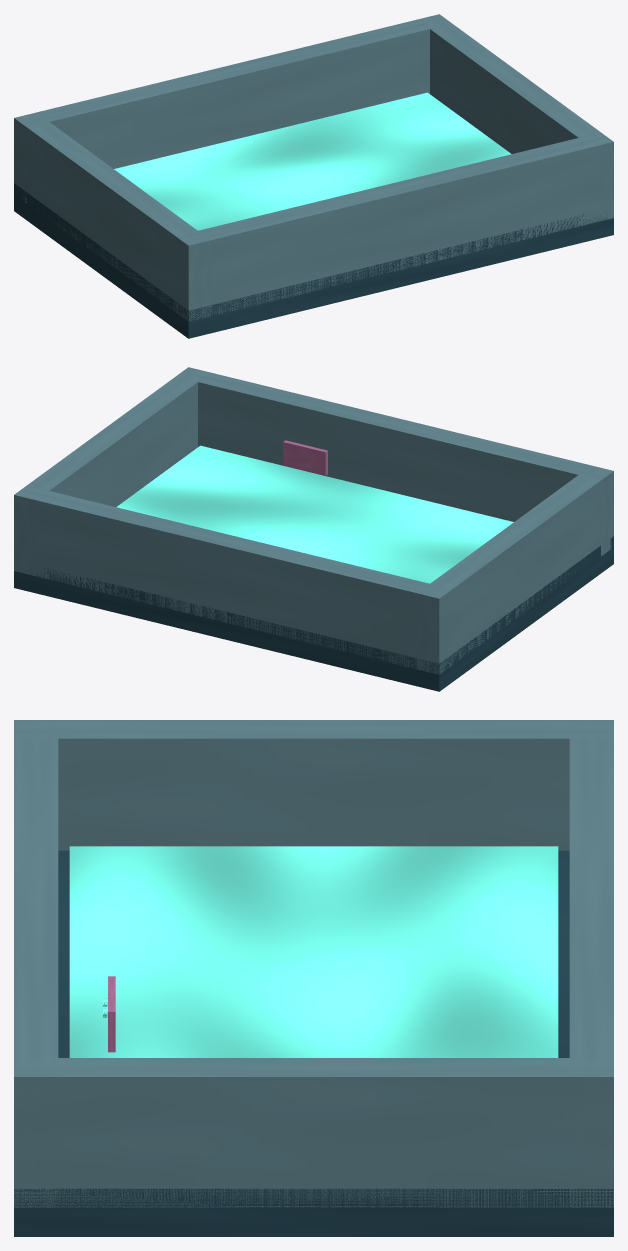
Rendered from atlas100-s068-a02.glb.
3 views of the same model, one above another, from view 1: azimuth 30°, elevation 25°; view 2: azimuth 150°, elevation 25°; view 3: azimuth 270°, elevation 25° (orthographic). The views are drawn at different scales.
Parts seen in each view (by area): view 1: atlas100-s068-a02:part-005, atlas100-s068-a02:part-004, atlas100-s068-a02:part-001, atlas100-s068-a02:part-002, atlas100-s068-a02:part-000, atlas100-s068-a02:part-003; view 2: atlas100-s068-a02:part-004, atlas100-s068-a02:part-005, atlas100-s068-a02:part-001, atlas100-s068-a02:part-002, atlas100-s068-a02:part-000, atlas100-s068-a02:part-003, atlas100-s068-a02:part-006; view 3: atlas100-s068-a02:part-001, atlas100-s068-a02:part-003, atlas100-s068-a02:part-002, atlas100-s068-a02:part-000, atlas100-s068-a02:part-004, atlas100-s068-a02:part-005.
Boxes of the visible parts, left/top/right/bottom form: atlas100-s068-a02:part-005: left=175, top=132, right=613, bottom=320; atlas100-s068-a02:part-004: left=14, top=14, right=450, bottom=203; atlas100-s068-a02:part-001: left=114, top=92, right=511, bottom=230; atlas100-s068-a02:part-002: left=14, top=112, right=210, bottom=321; atlas100-s068-a02:part-000: left=14, top=94, right=613, bottom=338; atlas100-s068-a02:part-003: left=418, top=14, right=613, bottom=220; atlas100-s068-a02:part-004: left=14, top=485, right=452, bottom=673; atlas100-s068-a02:part-005: left=176, top=367, right=613, bottom=556; atlas100-s068-a02:part-001: left=116, top=445, right=513, bottom=583; atlas100-s068-a02:part-002: left=417, top=465, right=613, bottom=674; atlas100-s068-a02:part-000: left=14, top=447, right=613, bottom=691; atlas100-s068-a02:part-003: left=14, top=367, right=210, bottom=576; atlas100-s068-a02:part-006: left=283, top=440, right=327, bottom=475; atlas100-s068-a02:part-001: left=69, top=846, right=558, bottom=1057; atlas100-s068-a02:part-003: left=14, top=1058, right=613, bottom=1207; atlas100-s068-a02:part-002: left=14, top=720, right=613, bottom=850; atlas100-s068-a02:part-000: left=14, top=850, right=613, bottom=1236; atlas100-s068-a02:part-004: left=569, top=720, right=613, bottom=1207; atlas100-s068-a02:part-005: left=14, top=720, right=58, bottom=1207.
Bounding box in the file's own units: 3.8 × 0.795 × 2.7.
Materials: 4 (4 with a texture image).
